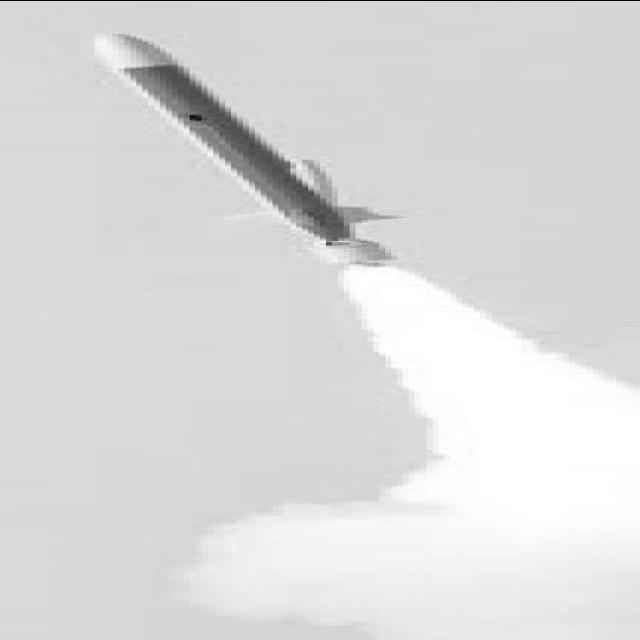Missile: (74, 32, 422, 267)
